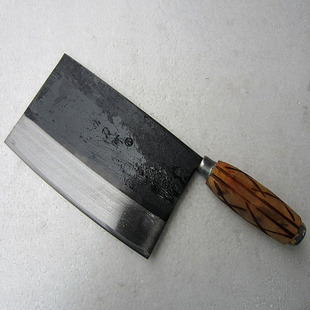knief: (16, 50, 305, 269)
